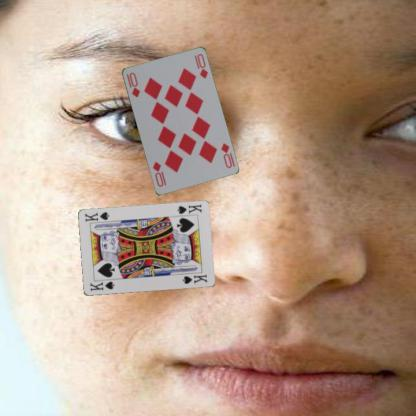10d: (218, 140, 236, 170), (124, 70, 141, 99)
Ks: (174, 202, 203, 216), (87, 279, 116, 292)
